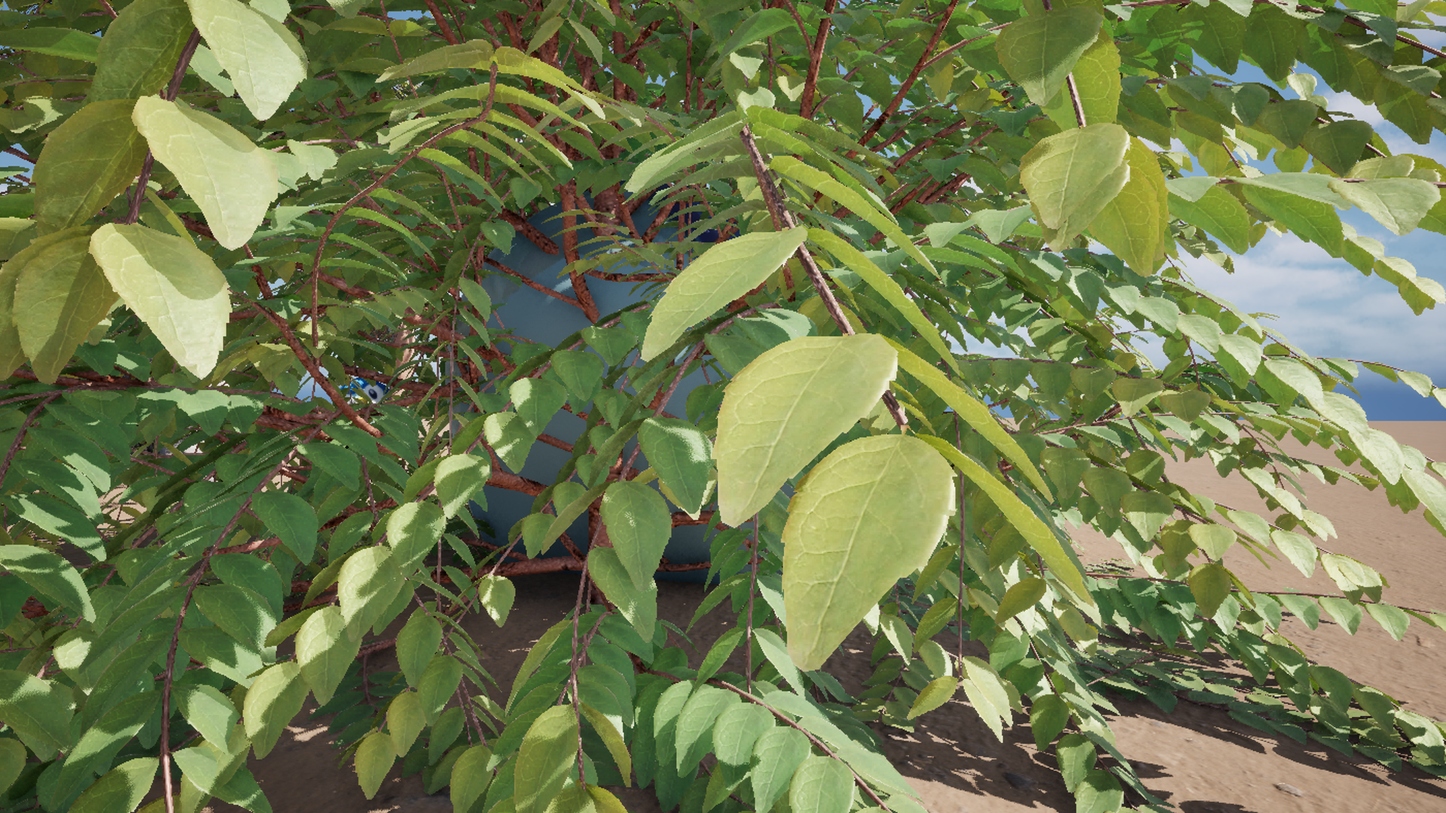Piplup: (272, 0, 1002, 813)
